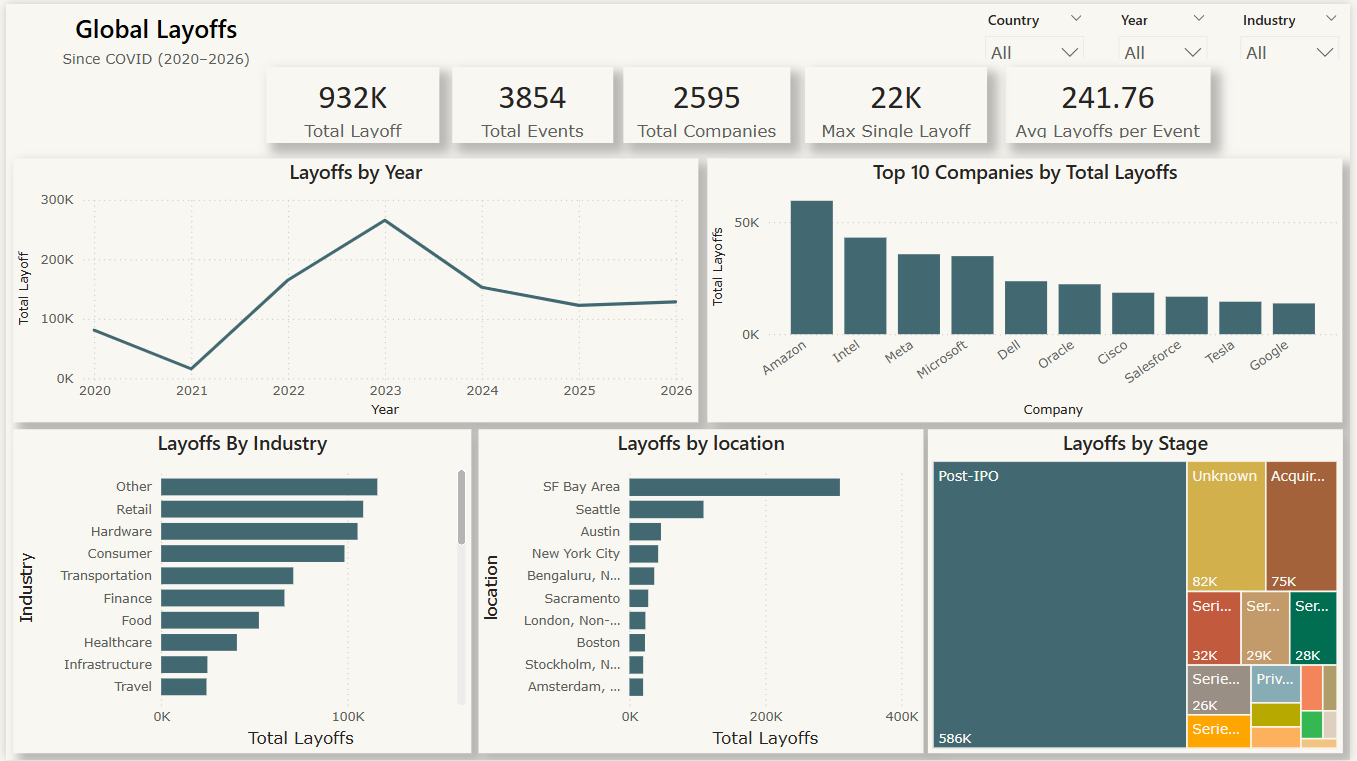

The page's visual inventory and layout, read from the dashboard file:
{"tool":"powerbi","page":{"name":"Page 1","canvas":[1280,720],"ordinal":0},"visuals":[{"type":"card","title":"TOTAL LAYOFFS","fields":{"Values":["layoffs_staging2.Total Layoff"]},"box":[248,60,165,72],"z":0},{"type":"card","title":"TOTAL LAYOFFS","fields":{"Values":["layoffs_staging2.Avg Layoffs per Event"]},"box":[952,60,195,72],"z":1000},{"type":"card","title":"TOTAL LAYOFFS","fields":{"Values":["layoffs_staging2.Total Events"]},"box":[425,60,153,72],"z":2000},{"type":"card","title":"TOTAL LAYOFFS","fields":{"Values":["layoffs_staging2.Total Companies"]},"box":[588,60,159,72],"z":3000},{"type":"card","title":"TOTAL LAYOFFS","fields":{"Values":["layoffs_staging2.Max Single Layoff"]},"box":[761,60,173,72],"z":4000},{"type":"slicer","title":"Year","fields":{"Values":["layoffs_staging2.date.Variation.Date Hierarchy.Year"]},"box":[1049,0,105,52],"z":5000},{"type":"slicer","fields":{"Values":["layoffs_staging2.industry"]},"box":[1165,0,115,52],"z":6000},{"type":"slicer","fields":{"Values":["layoffs_staging2.country"]},"box":[922,0,115,52],"z":7000},{"type":"lineChart","title":"Layoffs by Year","fields":{"Category":["layoffs_staging2.date.Variation.Date Hierarchy.Year","layoffs_staging2.date.Variation.Date Hierarchy.Month"],"Y":["layoffs_staging2.Total Layoff"]},"box":[7,147,652,251],"z":8000},{"type":"clusteredColumnChart","title":"Top 10 Companies by Total Layoffs","fields":{"Category":["layoffs_staging2.company"],"Y":["layoffs_staging2.Total Layoff"]},"box":[668,147,605,251],"z":9000},{"type":"clusteredBarChart","title":"Layoffs By Industry","fields":{"Y":["layoffs_staging2.Total Layoff"],"Category":["layoffs_staging2.industry"]},"box":[7,405,436,308],"z":10000},{"type":"clusteredBarChart","title":"Layoffs by location","fields":{"Category":["layoffs_staging2.location"],"Y":["layoffs_staging2.Total Layoff"]},"box":[450,405,424,308],"z":11000},{"type":"treemap","title":"Layoffs by Stage","fields":{"Group":["layoffs_staging2.stage"],"Values":["layoffs_staging2.Total Layoff"]},"box":[878,405,395,308],"z":12000},{"type":"textbox","title":"Global Layoffs","box":[0,6.6,285.5,53.4],"z":13000}]}

Visuals, with their boxes in screenshot pixels (x1, y1, x2, y2), scaled from the page's 1280x720 canvas onto the 1357x761 screenshot:
"TOTAL LAYOFFS" card: (263,63,438,140)
"TOTAL LAYOFFS" card: (1009,63,1216,140)
"TOTAL LAYOFFS" card: (451,63,613,140)
"TOTAL LAYOFFS" card: (623,63,792,140)
"TOTAL LAYOFFS" card: (807,63,990,140)
"Year" slicer: (1112,0,1223,55)
slicer - layoffs_staging2.industry: (1235,0,1356,55)
slicer - layoffs_staging2.country: (977,0,1099,55)
"Layoffs by Year" lineChart: (7,155,699,421)
"Top 10 Companies by Total Layoffs" clusteredColumnChart: (708,155,1350,421)
"Layoffs By Industry" clusteredBarChart: (7,428,470,754)
"Layoffs by location" clusteredBarChart: (477,428,927,754)
"Layoffs by Stage" treemap: (931,428,1350,754)
"Global Layoffs" textbox: (0,7,303,63)
